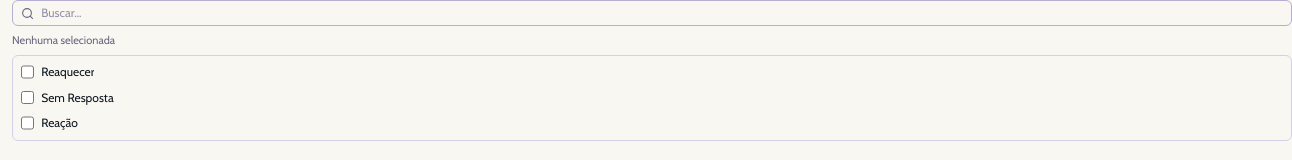
Test: MultiSelectList › busca sem resultado avisa em vez de sumir
Type "xyz" into the field with test id "m-busca". click: (662, 13)
box: [41,4,1284,22]
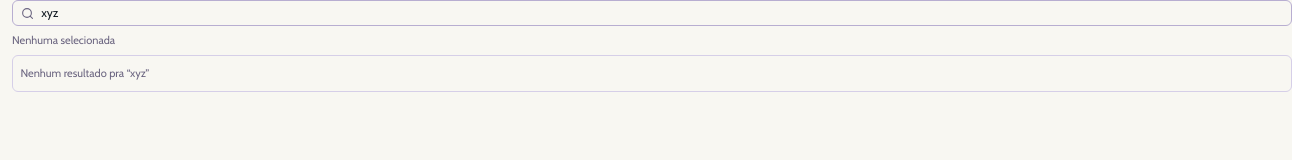
Expected: the list item "Nenhum resultado pra “xyz”" is shown, [20,66,149,80]
